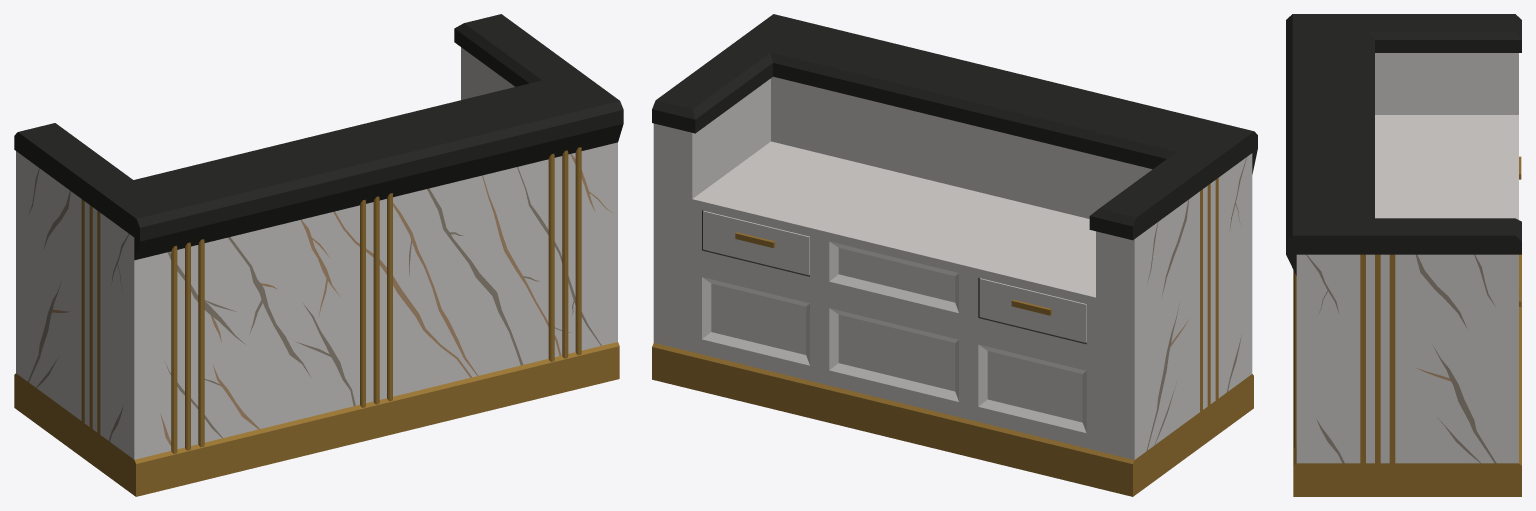
File: grand-front-desk-run-84d70a.glb
3 renders of one model, left to right at view 1: azimuth 30°, elevation 25°; view 2: azimuth 150°, elevation 25°; view 3: azimuth 270°, elevation 25°, orthographic. The views are drawn at different scales.
Parts seen in each view (by area): view 1: desk; view 2: desk, drawer-l-mesh, drawer-r-mesh; view 3: desk.
Part boxes in pixels (x1,y1,x2,y2): desk: [14, 14, 623, 496]; desk: [652, 14, 1257, 496]; drawer-l-mesh: [979, 278, 1086, 342]; drawer-r-mesh: [703, 211, 809, 275]; desk: [1286, 14, 1521, 496].
Bounding box in the file's own units: 2 × 1.1 × 0.9.
